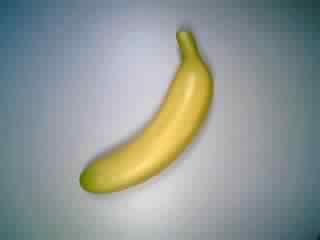banana: (79, 19, 216, 196)
